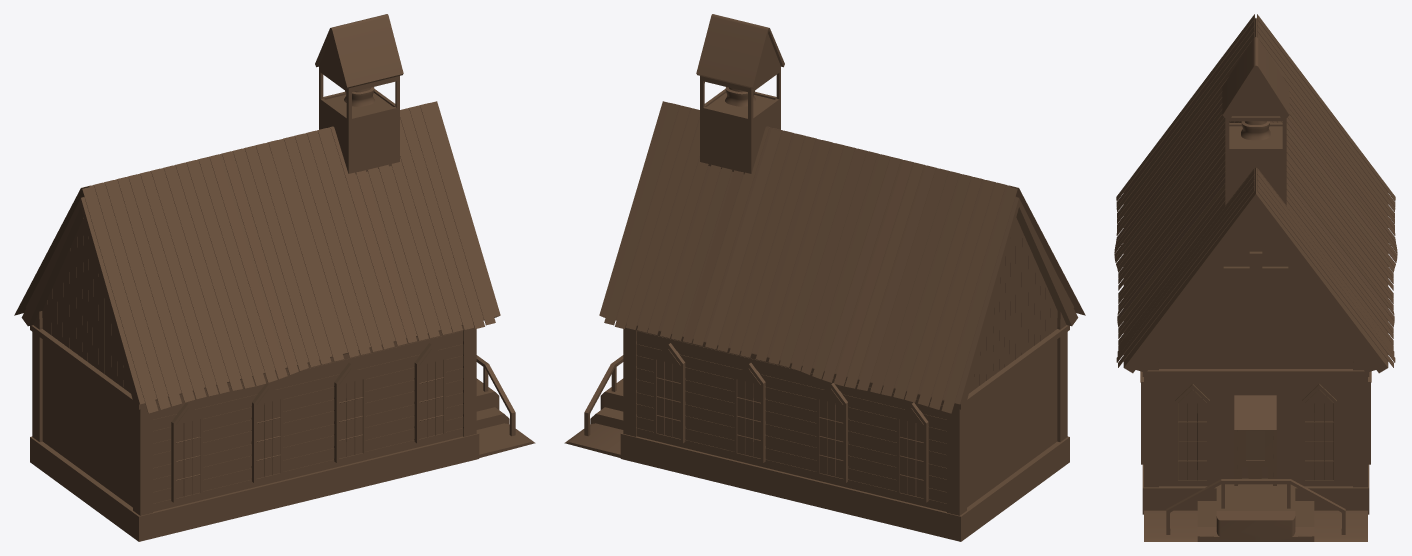
File: church_building.fbx
3 views of the same model, side by side, from view 1: azimuth 30°, elevation 25°; view 2: azimuth 150°, elevation 25°; view 3: azimuth 270°, elevation 25° (orthographic). The views are drawn at different scales.
Parts seen in each view (by area): view 1: church_build; view 2: church_build; view 3: church_build.
Boxes of the visible parts, left/top/right/bottom form: church_build: left=14, top=14, right=535, bottom=541; church_build: left=564, top=14, right=1085, bottom=541; church_build: left=1114, top=14, right=1397, bottom=541.
Bounding box in the file's own units: 24 × 23.67 × 14.13.
